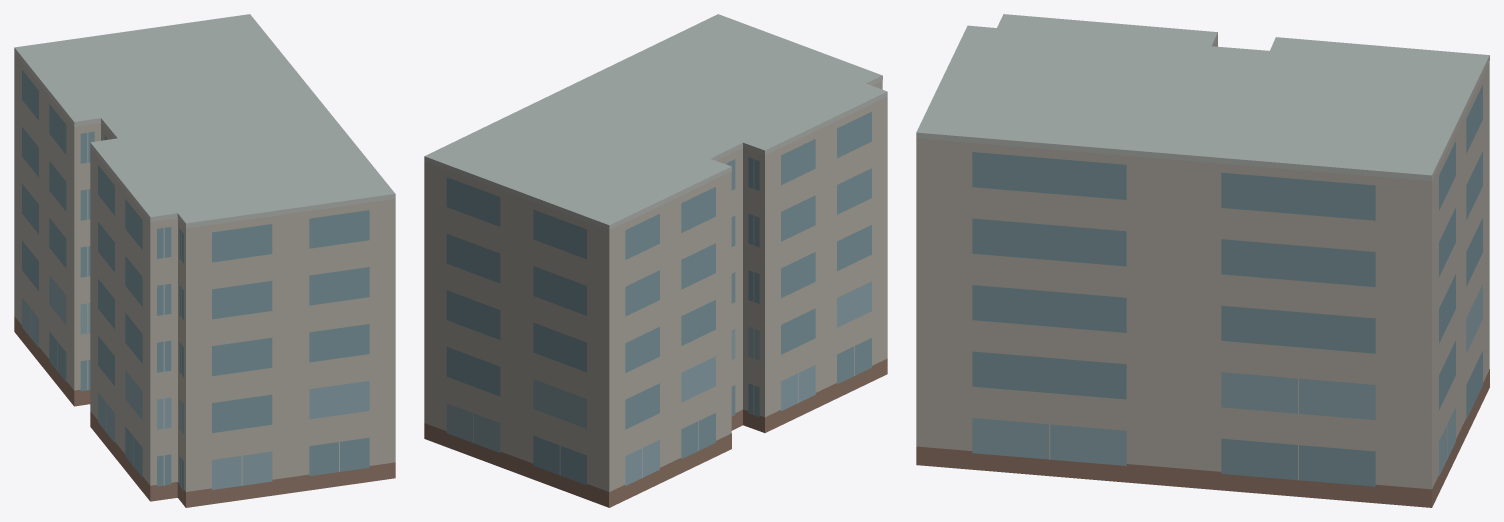
The model's file is survey-upis-32664838.glb.
3 renders of one model, left to right at view 1: azimuth 30°, elevation 25°; view 2: azimuth 150°, elevation 25°; view 3: azimuth 270°, elevation 25°, orthographic. The views are drawn at different scales.
Parts seen in each view (by area): view 1: survey-upis-32664838.tmp; view 2: survey-upis-32664838.tmp; view 3: survey-upis-32664838.tmp.
Boxes of the visible parts, left/top/right/bottom form: survey-upis-32664838.tmp: left=14, top=14, right=395, bottom=507; survey-upis-32664838.tmp: left=424, top=14, right=887, bottom=507; survey-upis-32664838.tmp: left=916, top=14, right=1489, bottom=507.
Bounding box in the file's own units: 14.65 × 14.06 × 21.99.
